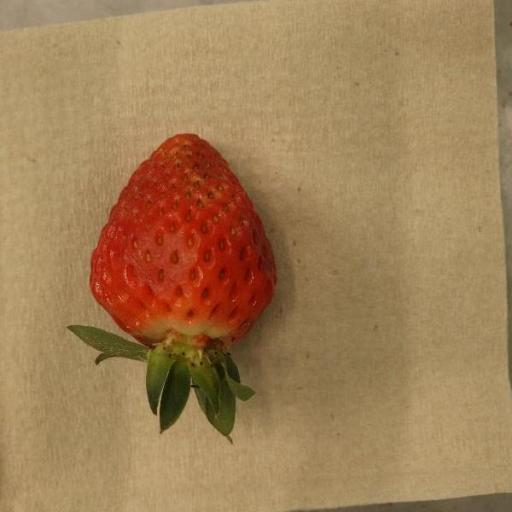Strawberry: (67, 134, 278, 438)
